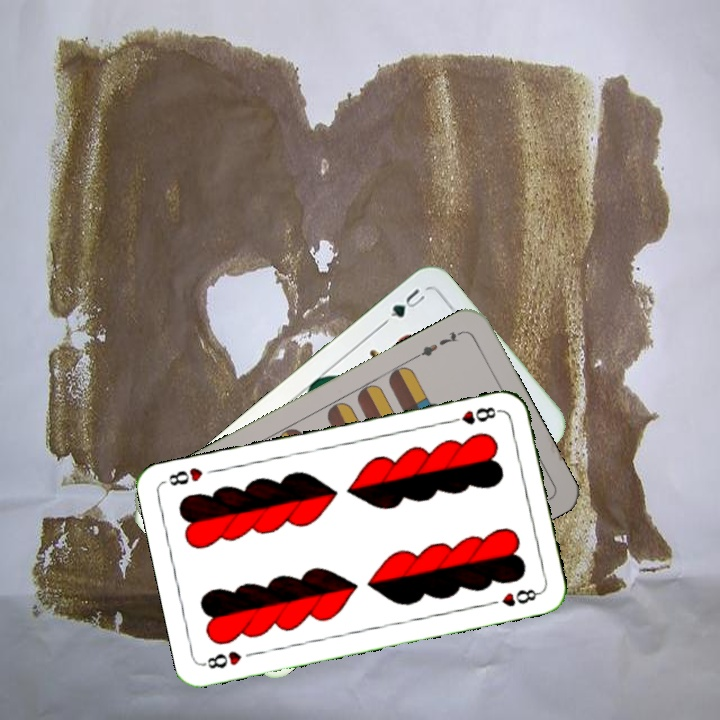E7: (411, 327, 466, 361)
GU: (386, 284, 428, 321)
H8: (444, 402, 503, 427), (199, 647, 244, 672)
